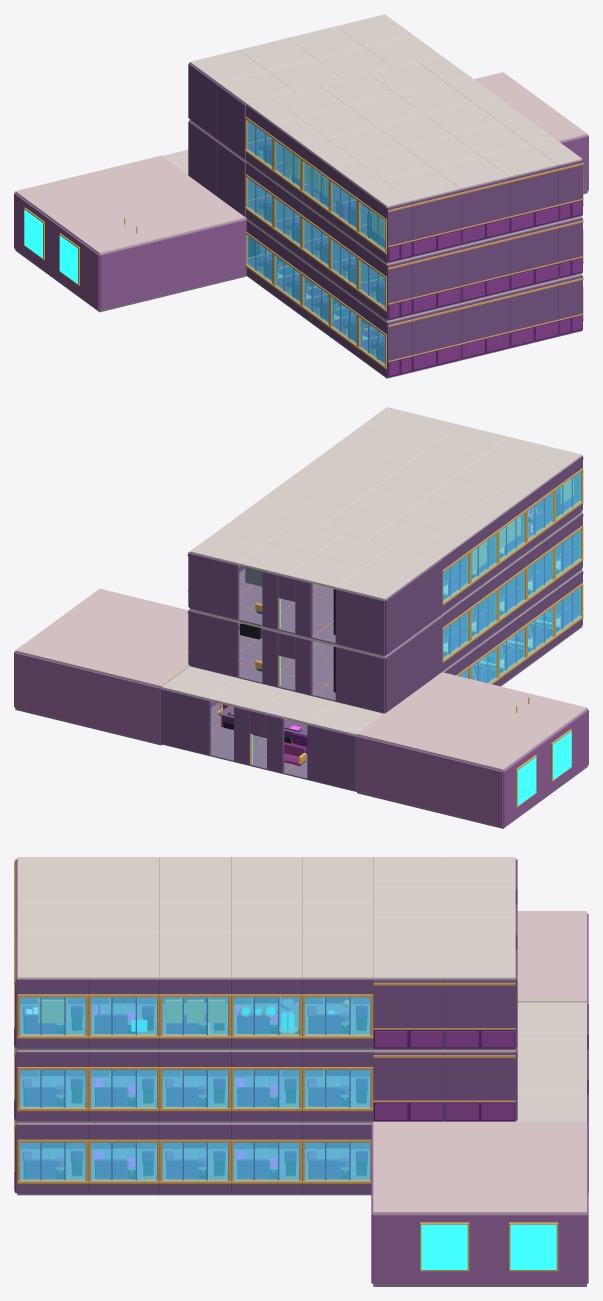
The model's file is grand_disaster_complete_asset_hotel.glb.
The picture shows the model from 3 angles, top to bottom: view 1: azimuth 30°, elevation 25°; view 2: azimuth 150°, elevation 25°; view 3: azimuth 270°, elevation 25°; orthographic projection. The views are drawn at different scales.
Parts seen in each view (by area): view 1: STATIC_FLOOR_3_MAT_WarmIvory, PUBLIC_WING_ARCHITECTURE_STATIC, STATIC_FLOOR_3_MAT_Wall_Plum, STATIC_FLOOR_2_MAT_Wall_Plum, STATIC_FLOOR_1_MAT_Wall_Plum, STATIC_FLOOR_3_MAT_WarmGold, STATIC_FLOOR_2_MAT_NeonWindowGlass, STATIC_FLOOR_1_MAT_NeonWindowGlass, STATIC_FLOOR_3_MAT_NeonWindowGlass, STATIC_FLOOR_2_MAT_WarmGold, STATIC_FLOOR_2_MAT_Plum_Lacquer, STATIC_FLOOR_1_MAT_Plum_Lacquer (+9 smaller); view 2: PUBLIC_WING_ARCHITECTURE_STATIC, STATIC_FLOOR_3_MAT_WarmIvory, STATIC_FLOOR_3_MAT_Wall_Plum, STATIC_FLOOR_2_MAT_Wall_Plum, STATIC_FLOOR_1_MAT_Wall_Plum, STATIC_FLOOR_2_MAT_WarmIvory, STATIC_FLOOR_3_MAT_NeonWindowGlass, STATIC_FLOOR_2_MAT_NeonWindowGlass, STATIC_FLOOR_3_MAT_PolishedPurpleStone, STATIC_FLOOR_2_MAT_PolishedPurpleStone, STATIC_FLOOR_1_MAT_NeonWindowGlass, STATIC_FLOOR_3_MAT_WarmGold (+4 smaller); view 3: STATIC_FLOOR_3_MAT_WarmIvory, PUBLIC_WING_ARCHITECTURE_STATIC, STATIC_FLOOR_3_MAT_Wall_Plum, STATIC_FLOOR_2_MAT_Wall_Plum, STATIC_FLOOR_1_MAT_NeonWindowGlass, STATIC_FLOOR_2_MAT_NeonWindowGlass, STATIC_FLOOR_3_MAT_NeonWindowGlass, STATIC_FLOOR_2_MAT_WarmIvory, STATIC_FLOOR_3_MAT_WarmGold, STATIC_FLOOR_1_MAT_Wall_Plum, STATIC_FLOOR_2_MAT_WarmGold, STATIC_FLOOR_1_MAT_PolishedPurpleStone (+25 smaller).
Part boxes in pixels (left/top/right/bottom): STATIC_FLOOR_3_MAT_WarmIvory: left=190, top=14, right=581, bottom=264; PUBLIC_WING_ARCHITECTURE_STATIC: left=14, top=72, right=588, bottom=312; STATIC_FLOOR_3_MAT_Wall_Plum: left=188, top=62, right=582, bottom=276; STATIC_FLOOR_2_MAT_Wall_Plum: left=188, top=120, right=582, bottom=334; STATIC_FLOOR_1_MAT_Wall_Plum: left=246, top=254, right=582, bottom=377; STATIC_FLOOR_3_MAT_WarmGold: left=244, top=116, right=583, bottom=278; STATIC_FLOOR_2_MAT_NeonWindowGlass: left=247, top=178, right=384, bottom=307; STATIC_FLOOR_1_MAT_NeonWindowGlass: left=247, top=235, right=384, bottom=364; STATIC_FLOOR_3_MAT_NeonWindowGlass: left=247, top=120, right=384, bottom=250; STATIC_FLOOR_2_MAT_WarmGold: left=244, top=174, right=583, bottom=336; STATIC_FLOOR_2_MAT_Plum_Lacquer: left=248, top=197, right=582, bottom=318; STATIC_FLOOR_1_MAT_Plum_Lacquer: left=248, top=255, right=582, bottom=375; PUBLIC_WING_ARCHITECTURE_STATIC: left=14, top=588, right=588, bottom=828; STATIC_FLOOR_3_MAT_WarmIvory: left=190, top=407, right=581, bottom=657; STATIC_FLOOR_3_MAT_Wall_Plum: left=188, top=455, right=582, bottom=659; STATIC_FLOOR_2_MAT_Wall_Plum: left=188, top=513, right=582, bottom=737; STATIC_FLOOR_1_MAT_Wall_Plum: left=161, top=570, right=582, bottom=790; STATIC_FLOOR_2_MAT_WarmIvory: left=161, top=570, right=581, bottom=735; STATIC_FLOOR_3_MAT_NeonWindowGlass: left=443, top=472, right=580, bottom=601; STATIC_FLOOR_2_MAT_NeonWindowGlass: left=443, top=529, right=580, bottom=659; STATIC_FLOOR_3_MAT_PolishedPurpleStone: left=190, top=511, right=582, bottom=656; STATIC_FLOOR_2_MAT_PolishedPurpleStone: left=190, top=568, right=582, bottom=713; STATIC_FLOOR_1_MAT_NeonWindowGlass: left=459, top=587, right=580, bottom=683; STATIC_FLOOR_3_MAT_WarmGold: left=187, top=457, right=583, bottom=646; STATIC_FLOOR_3_MAT_WarmIvory: left=17, top=857, right=515, bottom=1051; PUBLIC_WING_ARCHITECTURE_STATIC: left=371, top=911, right=588, bottom=1286; STATIC_FLOOR_3_MAT_Wall_Plum: left=15, top=859, right=517, bottom=1066; STATIC_FLOOR_2_MAT_Wall_Plum: left=15, top=1048, right=588, bottom=1139; STATIC_FLOOR_1_MAT_NeonWindowGlass: left=20, top=1142, right=370, bottom=1180; STATIC_FLOOR_2_MAT_NeonWindowGlass: left=20, top=1070, right=370, bottom=1107; STATIC_FLOOR_3_MAT_NeonWindowGlass: left=20, top=997, right=370, bottom=1034; STATIC_FLOOR_2_MAT_WarmIvory: left=17, top=1002, right=586, bottom=1124; STATIC_FLOOR_3_MAT_WarmGold: left=14, top=861, right=515, bottom=1069; STATIC_FLOOR_1_MAT_Wall_Plum: left=15, top=1004, right=588, bottom=1193; STATIC_FLOOR_2_MAT_WarmGold: left=14, top=1056, right=515, bottom=1142; STATIC_FLOOR_1_MAT_PolishedPurpleStone: left=17, top=1148, right=371, bottom=1195.
Bounding box in the file's own units: 40.48 × 13.6 × 32.31.
